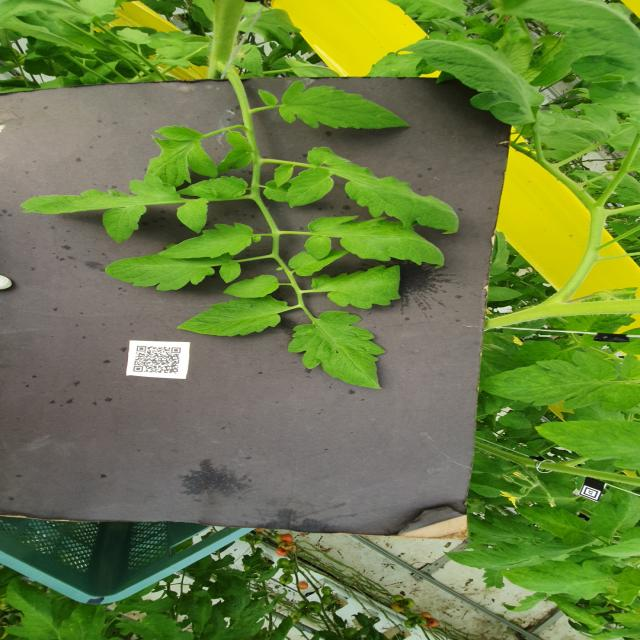Healthy Leaf: (287, 146, 461, 237), (396, 40, 547, 127), (18, 176, 179, 246), (472, 350, 640, 413), (288, 310, 395, 394), (306, 216, 449, 271), (278, 81, 413, 133), (530, 417, 640, 471), (104, 254, 242, 293), (175, 295, 292, 339), (500, 560, 616, 600), (144, 125, 218, 186), (159, 222, 262, 263), (312, 264, 403, 310), (288, 250, 351, 278), (177, 177, 250, 200), (222, 275, 283, 300), (177, 201, 210, 235), (226, 130, 256, 155), (274, 163, 295, 190)
